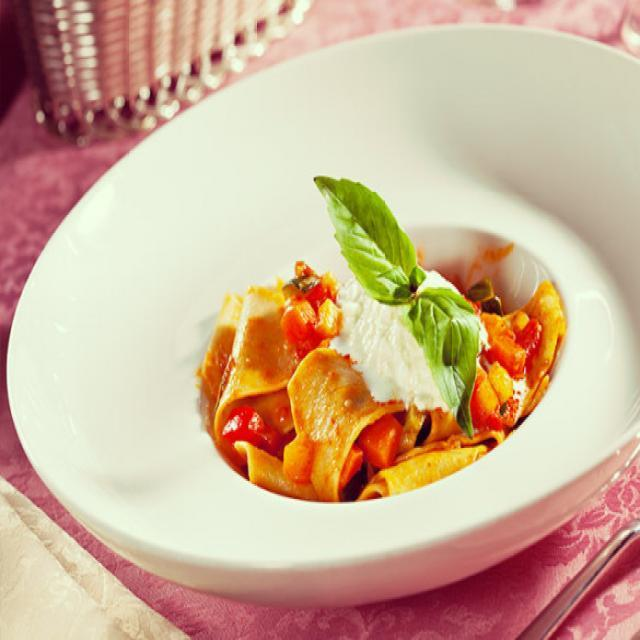Pasta al ragu: (161, 171, 625, 527)
